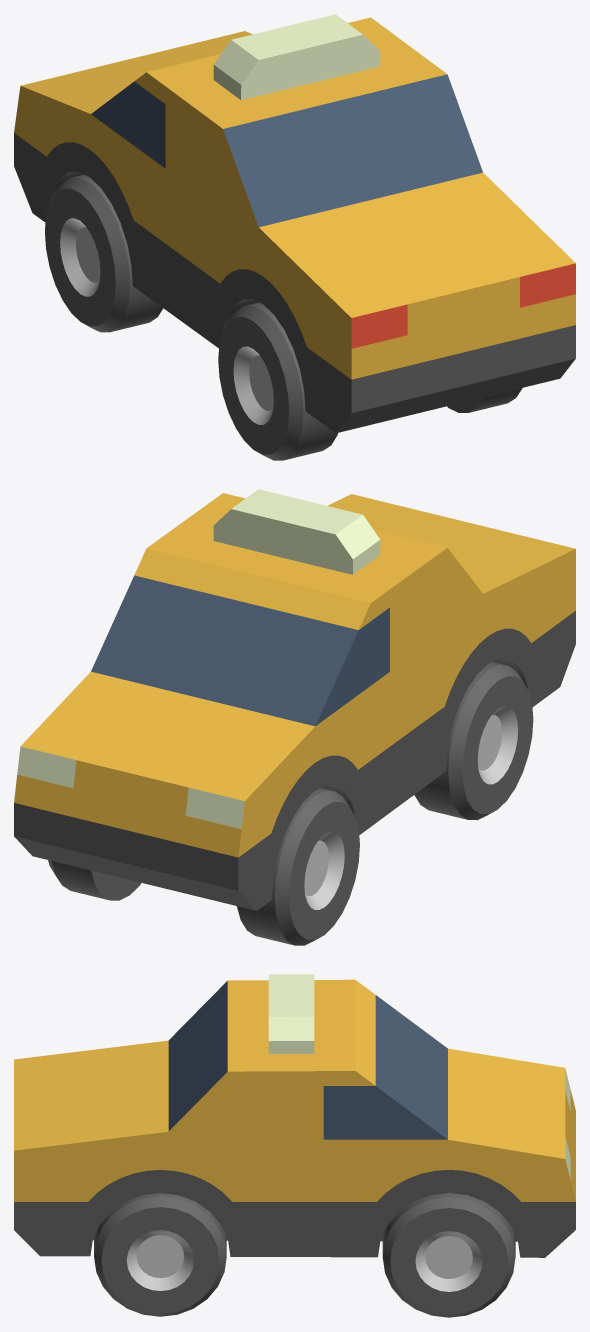
File: carTaxi.obj
3 renders of one model, top to bottom at view 1: azimuth 30°, elevation 25°; view 2: azimuth 150°, elevation 25°; view 3: azimuth 270°, elevation 25°, orthographic. The views are drawn at different scales.
Parts seen in each view (by area): view 1: body 9, wheelBackLeft 9, wheelFrontLeft 9, wheelBackRight 9; view 2: body 9, wheelFrontLeft 9, wheelBackLeft 9, wheelFrontRight 9; view 3: body 9, wheelFrontRight 9, wheelBackRight 9.
Boxes of the visible parts, x1,y1,x2,y2 form: body 9: (14,14,575,433); wheelBackLeft 9: (218,302,337,460); wheelFrontLeft 9: (45,174,163,332); wheelBackRight 9: (447,388,522,412); body 9: (14,489,575,910); wheelFrontLeft 9: (237,788,359,945); wheelBackLeft 9: (414,662,533,820); wheelFrontRight 9: (48,860,141,900); body 9: (14,974,575,1257); wheelFrontRight 9: (382,1193,515,1317); wheelBackRight 9: (94,1193,226,1316).
Bounding box in the file's own units: 4.95 × 6.46 × 11.85.
